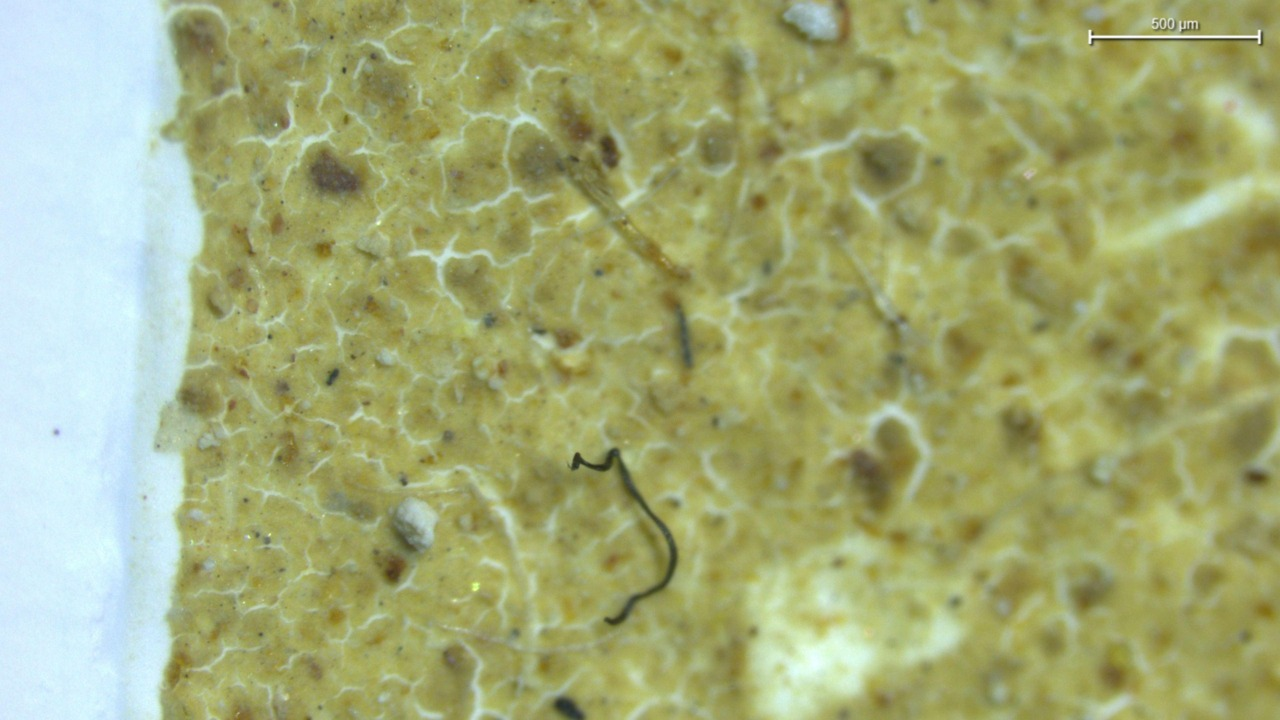microplastic_fragment: (392, 498, 438, 552), (783, 2, 839, 40)
